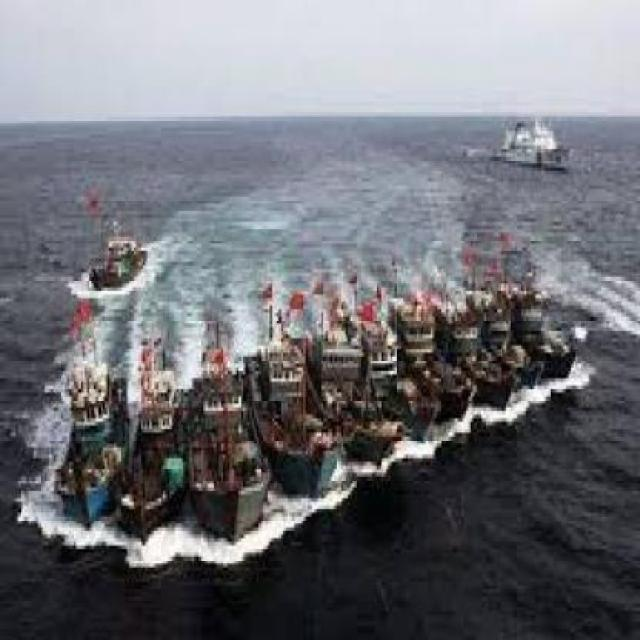fish-b: (250, 292, 347, 503), (197, 336, 282, 554), (41, 339, 135, 533), (123, 336, 197, 554), (309, 306, 403, 470)
